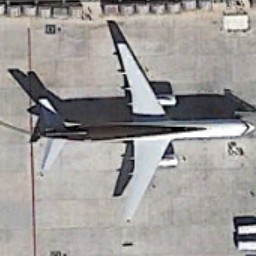Airplane: (15, 20, 256, 236)
